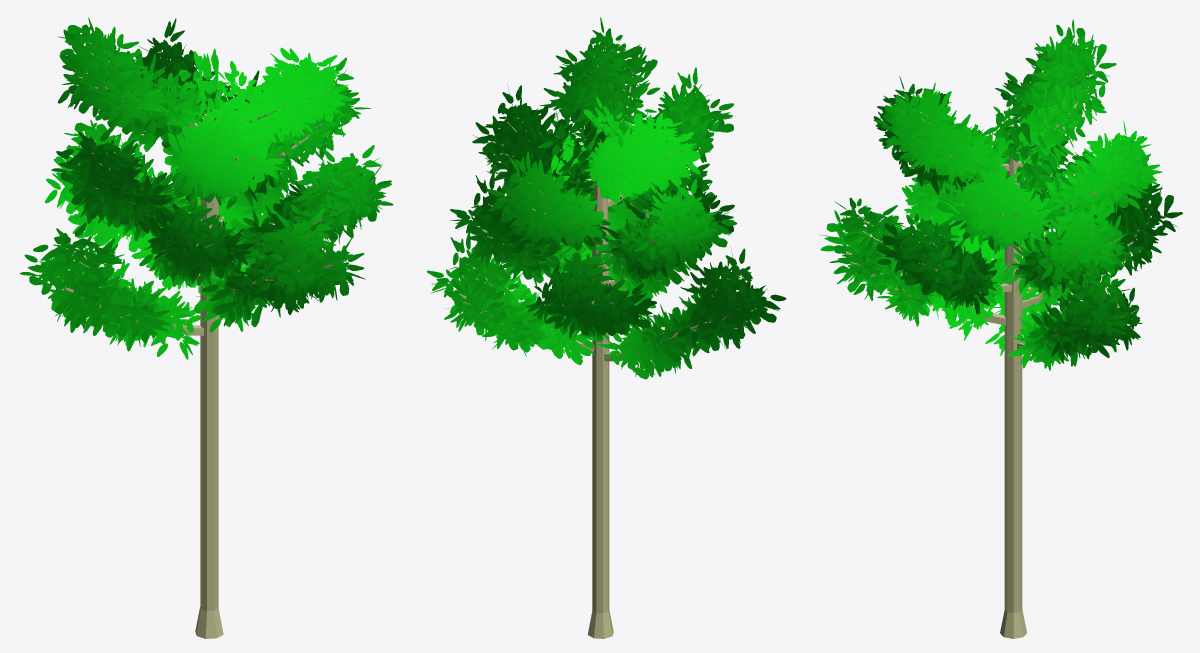
The model's file is CayGoiLarge.fbx.
3 renders of one model, left to right at view 1: azimuth 30°, elevation 25°; view 2: azimuth 150°, elevation 25°; view 3: azimuth 270°, elevation 25°, orthographic. The views are drawn at different scales.
Parts seen in each view (by area): view 1: LeafNew.196, Cube.001; view 2: LeafNew.196, Cube.001; view 3: LeafNew.196, Cube.001.
Part boxes in pixels (x1,y1,x2,y2): LeafNew.196: (19, 17, 393, 359); Cube.001: (55, 42, 374, 638); LeafNew.196: (427, 17, 786, 379); Cube.001: (456, 46, 767, 638); LeafNew.196: (819, 19, 1182, 370); Cube.001: (845, 52, 1154, 638).
Bounding box in the file's own units: 4338 × 7705 × 4535.
2 materials, 1 textured.
